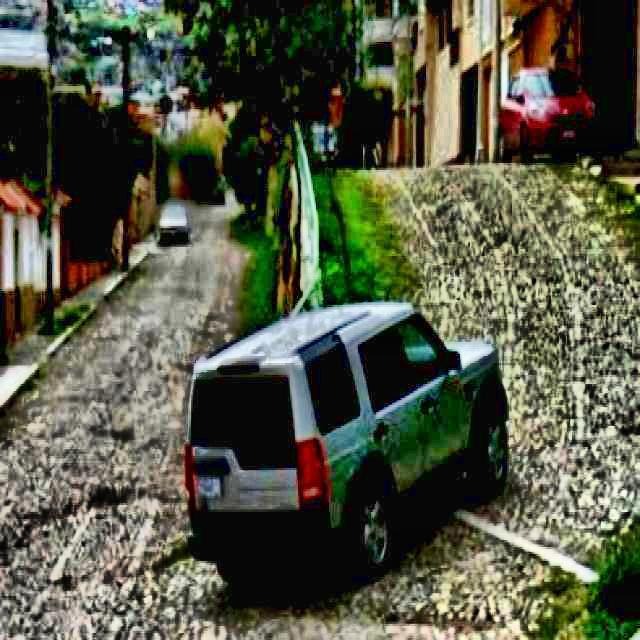carro: (188, 308, 510, 586), (499, 62, 604, 162), (156, 198, 192, 241)
